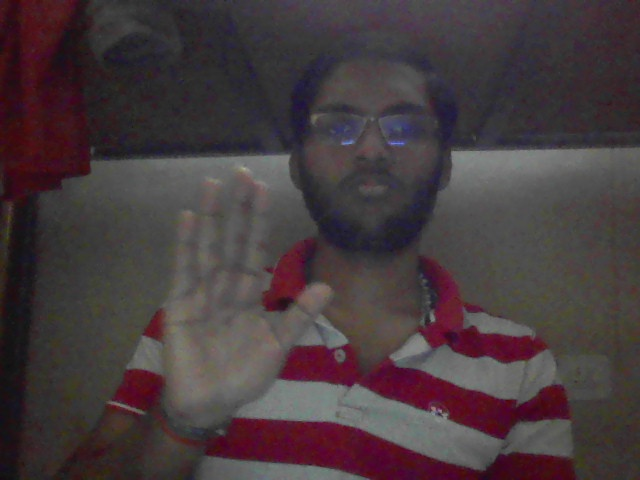Hi: (150, 145, 335, 450)
